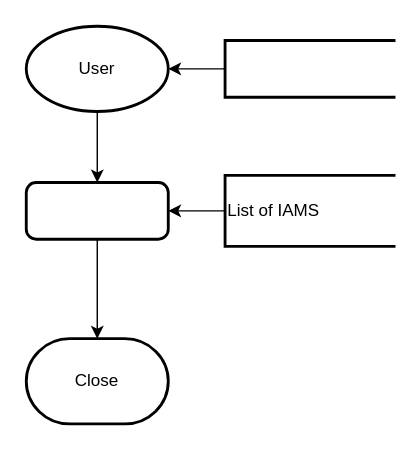
Some shapes in this 420 by 449 pixel diagram are drawn without their labels. The centre of each missing label's shape, as x and y in pixels:
Request (username): the point at 309,68
User delete: the point at 96,210
